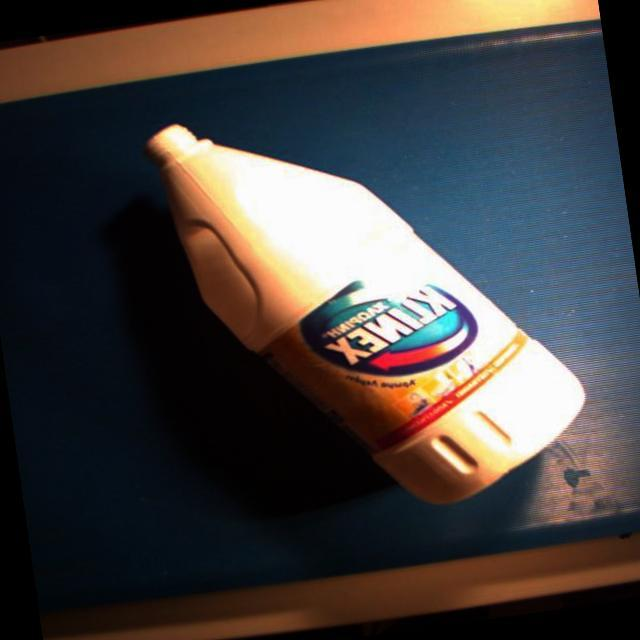HDPE Plastic: (142, 118, 592, 509)
